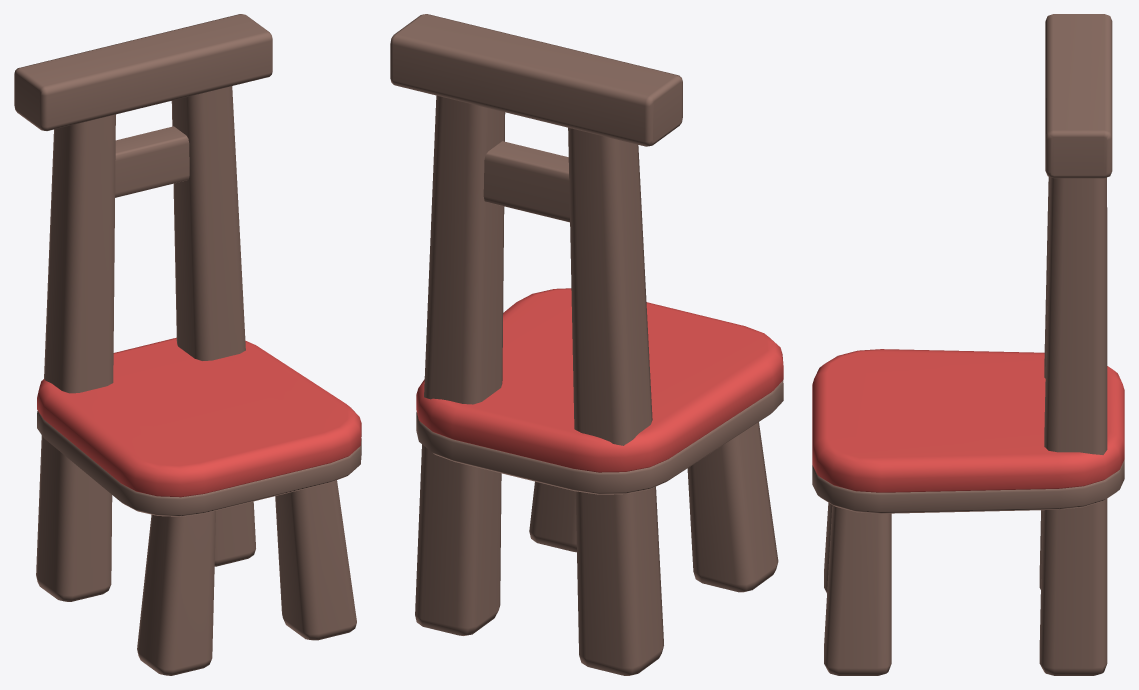
File: Isl_10_Chair_1.fbx
The picture shows the model from 3 angles, left to right: view 1: azimuth 30°, elevation 25°; view 2: azimuth 150°, elevation 25°; view 3: azimuth 270°, elevation 25°; orthographic projection. The views are drawn at different scales.
Parts seen in each view (by area): view 1: Isl_10_Chair_1; view 2: Isl_10_Chair_1; view 3: Isl_10_Chair_1.
Part boxes in pixels (x1,y1,x2,y2): Isl_10_Chair_1: (14, 14, 361, 675); Isl_10_Chair_1: (390, 14, 783, 675); Isl_10_Chair_1: (812, 14, 1124, 675).
Bounding box in the file's own units: 57.07 × 122 × 62.09.
